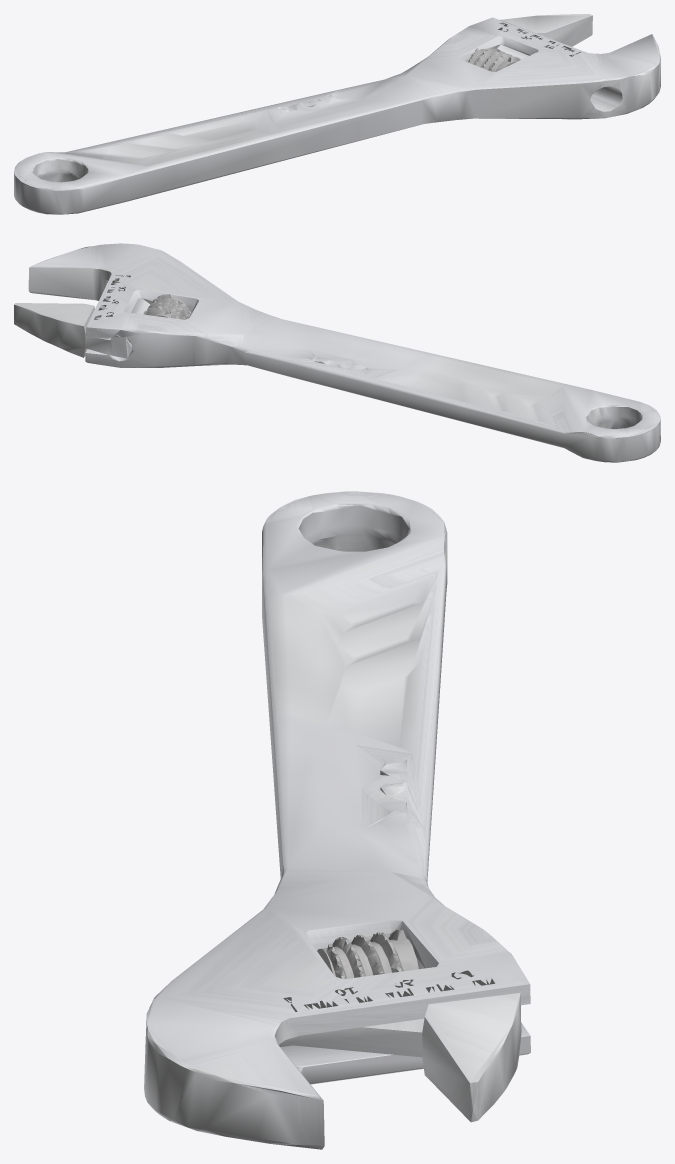
Rendered from simready-wrench-adjustable.ced62812.glb.
3 views of the same model, one above another, from view 1: azimuth 30°, elevation 25°; view 2: azimuth 150°, elevation 25°; view 3: azimuth 270°, elevation 25° (orthographic). The views are drawn at different scales.
Parts seen in each view (by area): view 1: model; view 2: model; view 3: model.
Part boxes in pixels (<box>): model: <box>14,14,660,214</box>; model: <box>14,243,660,462</box>; model: <box>144,491,530,1149</box>.
Size of the model in its own units: 0.2093 by 0.0139 by 0.0561.
Materials: 3 (2 with a texture image).
